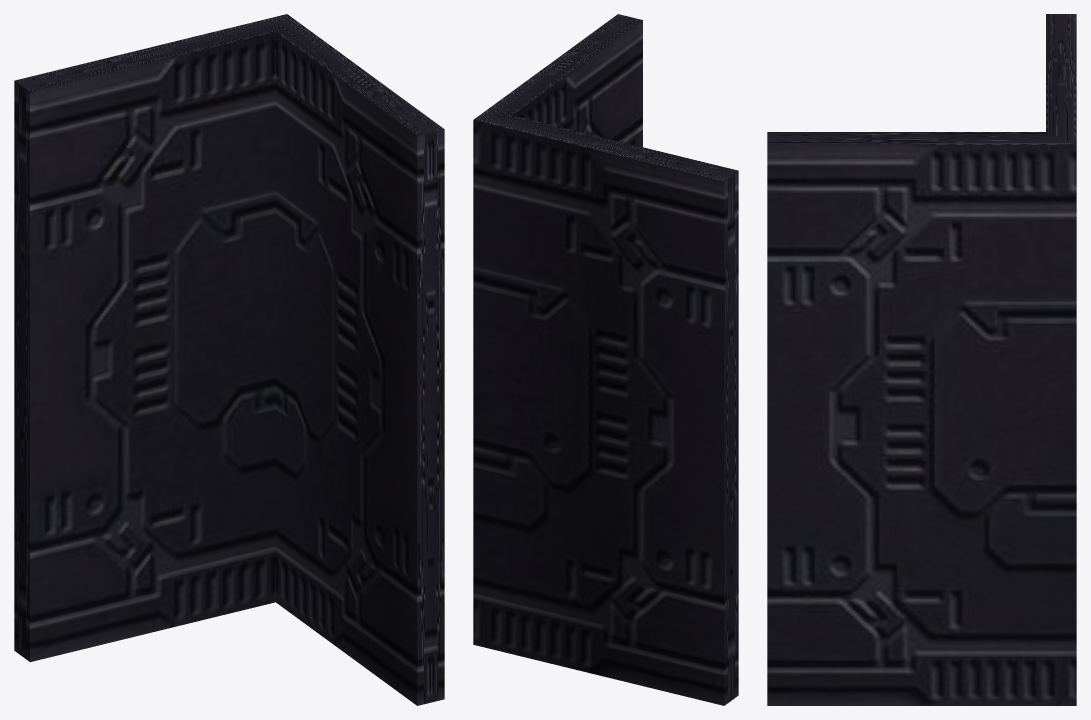
File: courner_wall_peice.FBX
3 renders of one model, left to right at view 1: azimuth 30°, elevation 25°; view 2: azimuth 150°, elevation 25°; view 3: azimuth 270°, elevation 25°, orthographic. The views are drawn at different scales.
Visible parts, largest first — view 1: corner_peice; view 2: corner_peice; view 3: corner_peice.
Boxes of the visible parts, left/top/right/bottom form: corner_peice: left=14, top=14, right=444, bottom=705; corner_peice: left=473, top=14, right=738, bottom=705; corner_peice: left=767, top=14, right=1076, bottom=705.
Size of what is drawn, in the model's own units: 200 by 200 by 400.
Materials: 1 (1 with a texture image).
